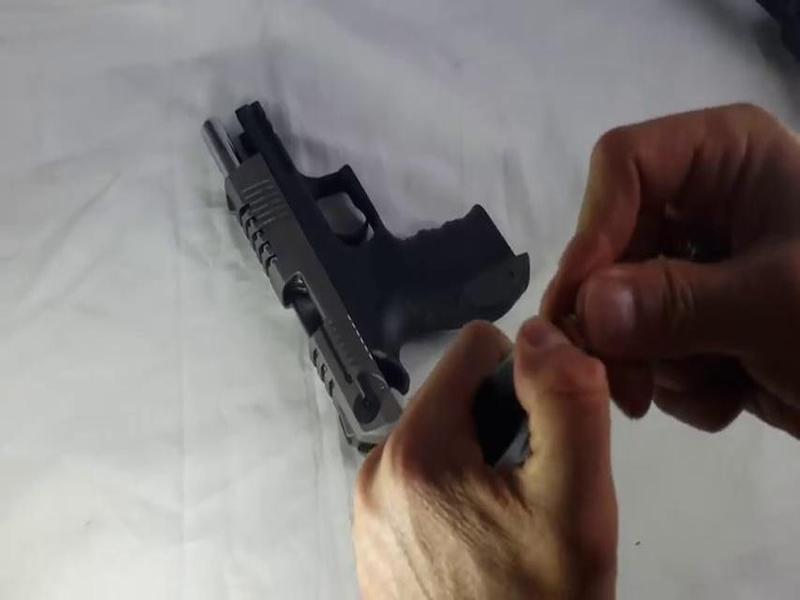Pistola: (198, 92, 546, 455)
